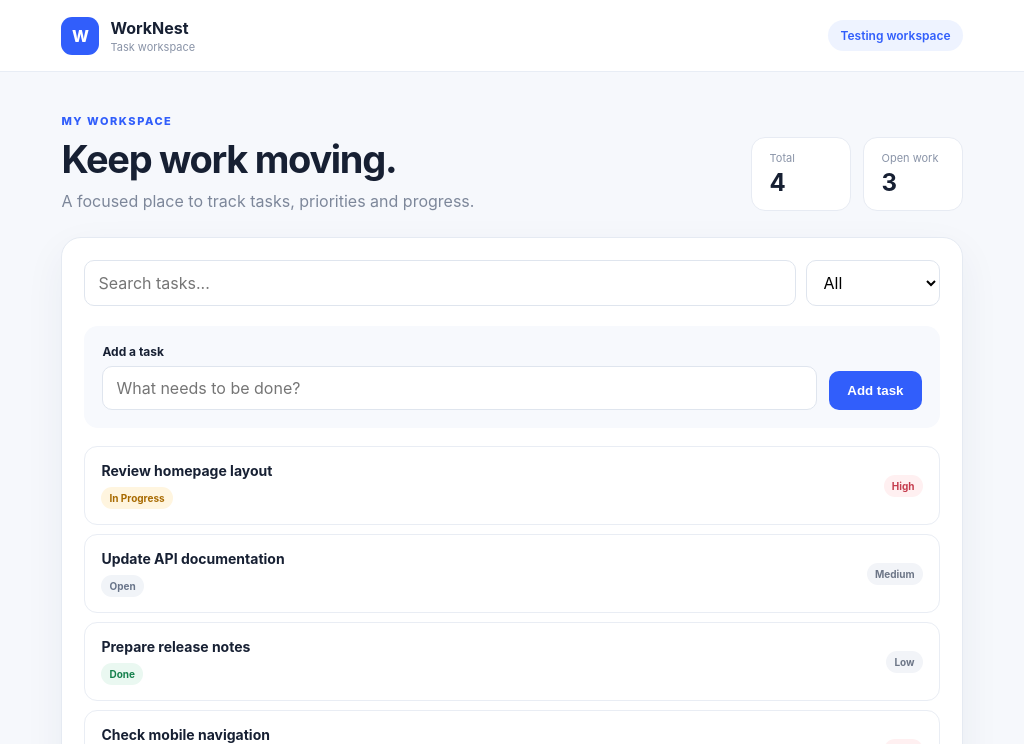
Test: WorkNest › shows validation message when quick add is submitted empty
Click the button "Add task": (875,390) [829,371,922,410]
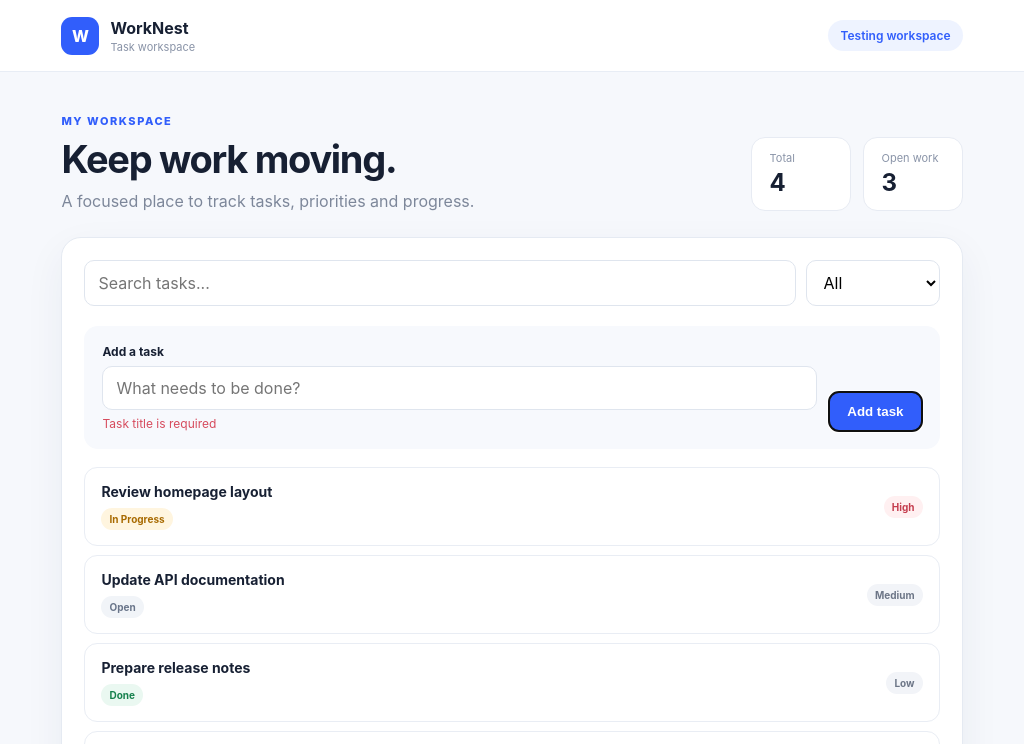
Expected: the message reads "Task title is required", [102,416,216,431]
